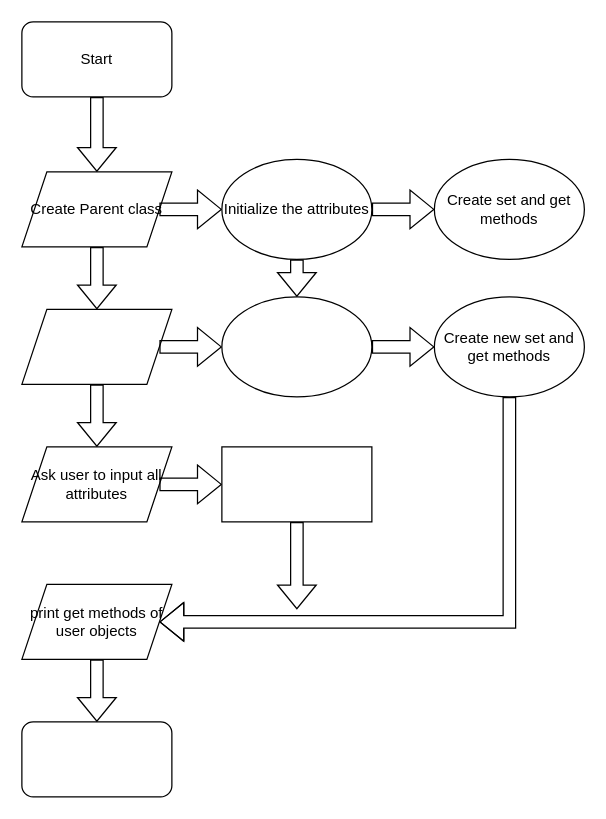
Some shapes in this 606 by 819 pixel diagram are drawn without their labels. The centre of each missing label's shape, as x and y in pixels:
"Create worker sub class" goes at (x=96, y=346).
"Create worker sub class object with user input as attribuyes" goes at (x=296, y=484).
"End" goes at (x=96, y=759).
"Initialize all attributes" goes at (x=296, y=346).
